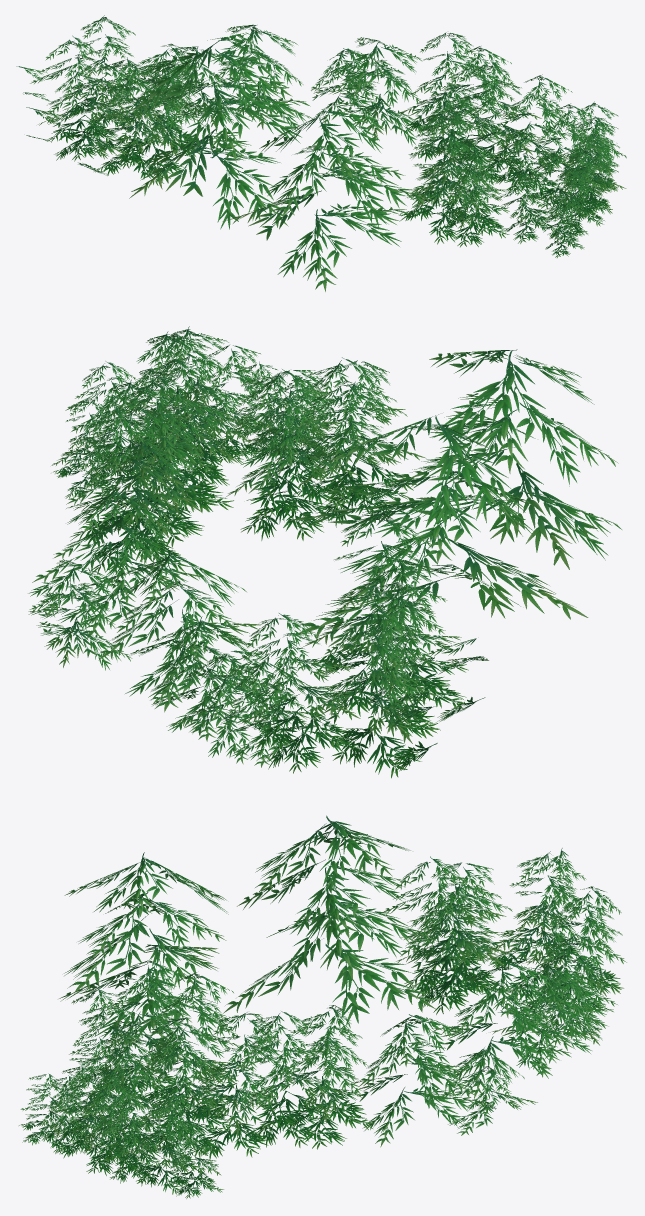
Rendered from Area_12_10.fbx.
3 views of the same model, one above another, from view 1: azimuth 30°, elevation 25°; view 2: azimuth 150°, elevation 25°; view 3: azimuth 270°, elevation 25° (orthographic). The views are drawn at different scales.
Visible parts, largest first — view 1: Area_12_10; view 2: Area_12_10; view 3: Area_12_10.
Boxes of the visible parts, bbox=[...] form: Area_12_10: bbox=[16, 15, 626, 291]; Area_12_10: bbox=[28, 326, 621, 778]; Area_12_10: bbox=[19, 815, 626, 1198].
Bounding box in the file's own units: 3540 × 1385 × 3731.
